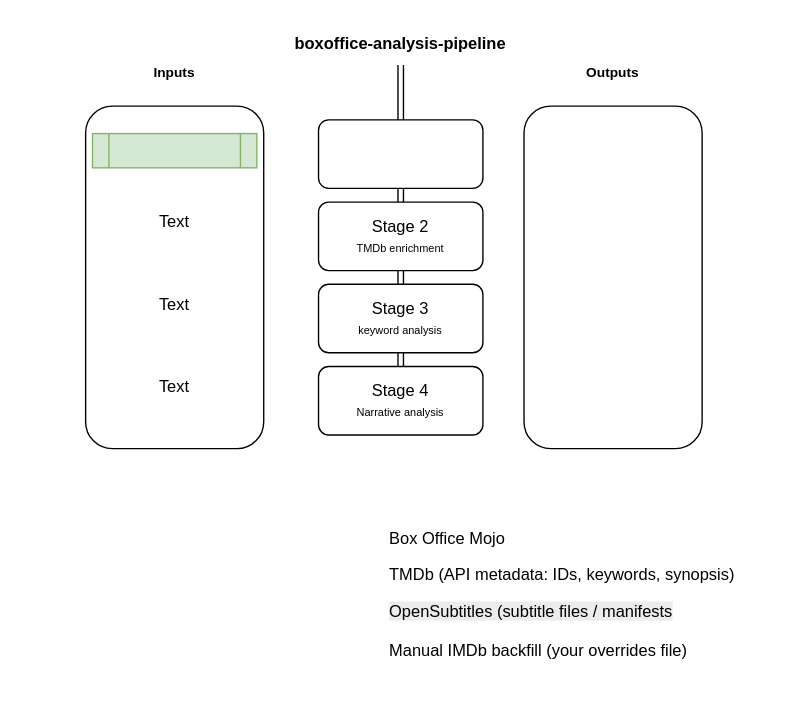
Some shapes in this 807 by 704 pixel diagram are drawn without their labels. Here are the shapes that lost their labels. From the top down, the centre of each, then its label:
At [174,150]: "Box Office Mojo".
At [400,153]: "Stage 1 scrape + standardize + filter".
